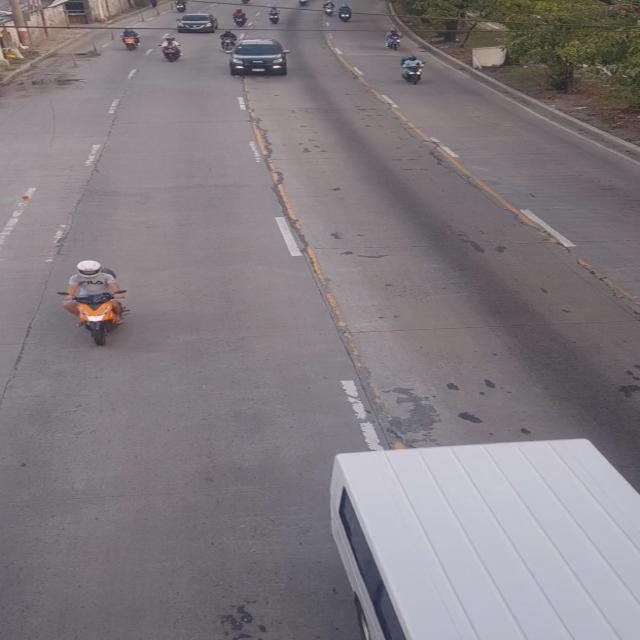car: (228, 38, 292, 78), (177, 12, 217, 36)
motorbike: (66, 256, 127, 341), (402, 53, 426, 86), (162, 28, 183, 62)
truck: (337, 433, 640, 640)
